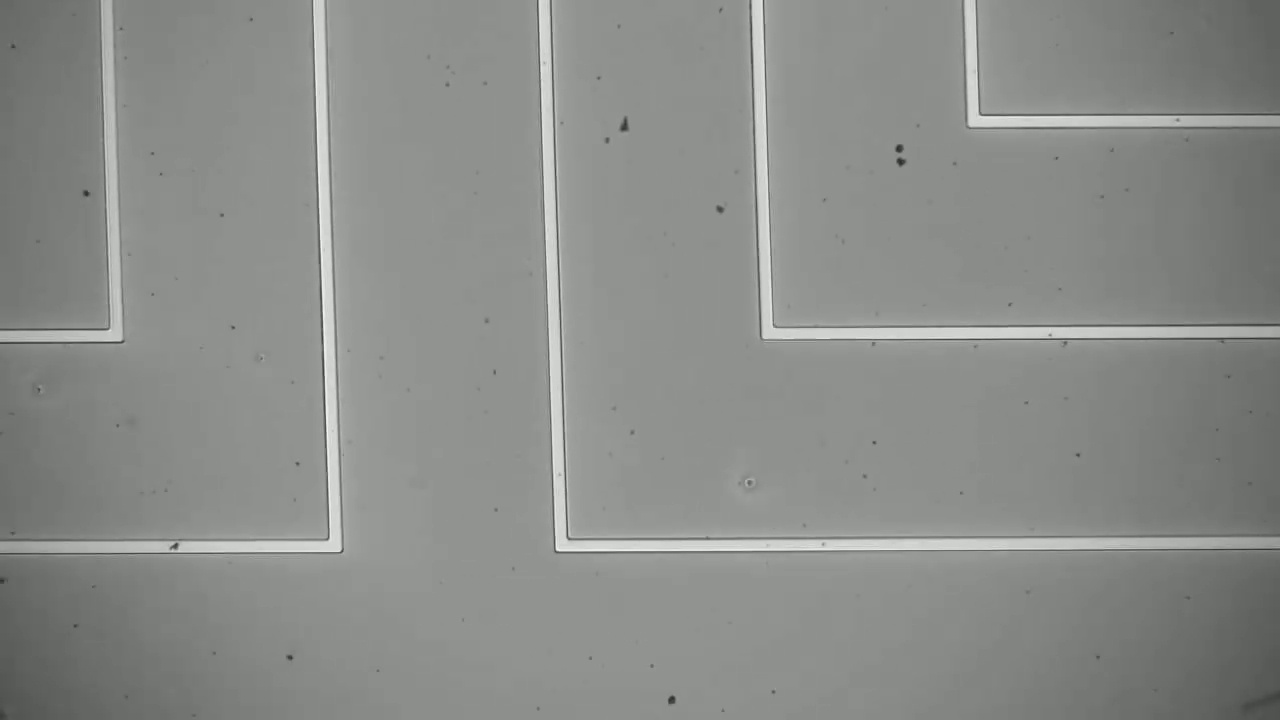stains_enbedded: (162, 537, 189, 556)
